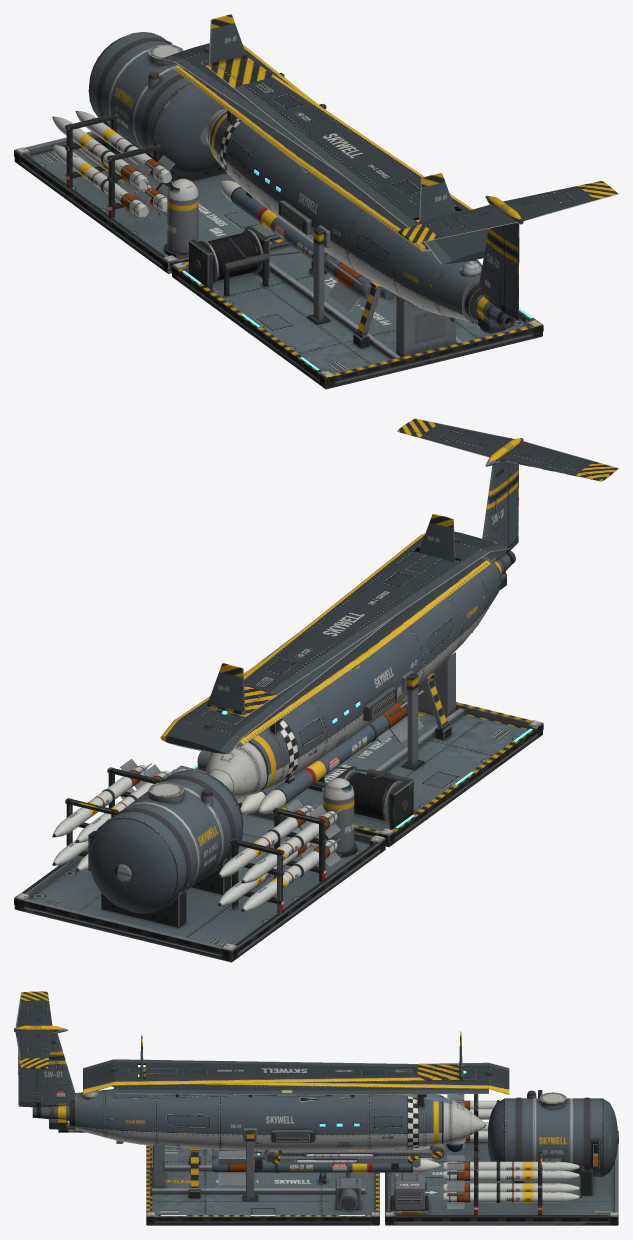
Rendered from SkywellKit.fbx.
3 renders of one model, top to bottom at view 1: azimuth 30°, elevation 25°; view 2: azimuth 150°, elevation 25°; view 3: azimuth 270°, elevation 25°, orthographic. The views are drawn at different scales.
Parts seen in each view (by area): view 1: Skin, Deck, Kite, WingOuterL, Tail, Wing, WingOuterR, Winch, WingletL, WingletR, Dark, LatchL (+1 smaller); view 2: Skin, Kite, Deck, WingOuterL, Tail, WingOuterR, Wing, Winch, WingletL, WingletR, Dark; view 3: Skin, Kite, Deck, WingOuterL, Tail, Wing, Round, WingOuterR, Loader, LoaderFore, Dark, LatchR.
Boxes of the visible parts, x1=… form: Skin: x1=14, y1=32, x2=326, y2=274; Deck: x1=171, y1=225, x2=543, y2=389; Kite: x1=205, y1=108, x2=482, y2=322; WingOuterL: x1=205, y1=57, x2=488, y2=264; Tail: x1=397, y1=181, x2=618, y2=333; Wing: x1=174, y1=65, x2=457, y2=251; WingOuterR: x1=161, y1=43, x2=419, y2=222; Winch: x1=198, y1=229, x2=263, y2=283; WingletL: x1=209, y1=14, x2=246, y2=66; WingletR: x1=419, y1=173, x2=455, y2=221; Dark: x1=96, y1=37, x2=182, y2=154; LatchL: x1=354, y1=281, x2=384, y2=340; Skin: x1=14, y1=758, x2=386, y2=962; Kite: x1=205, y1=556, x2=501, y2=813; Deck: x1=195, y1=652, x2=543, y2=847; WingOuterL: x1=205, y1=531, x2=510, y2=716; Tail: x1=397, y1=418, x2=618, y2=590; WingOuterR: x1=160, y1=617, x2=393, y2=754; Wing: x1=236, y1=552, x2=490, y2=746; Winch: x1=344, y1=769, x2=403, y2=823; WingletL: x1=207, y1=663, x2=245, y2=714; WingletR: x1=418, y1=514, x2=455, y2=562; Dark: x1=106, y1=775, x2=235, y2=892; Skin: x1=385, y1=1090, x2=618, y2=1225; Kite: x1=69, y1=1089, x2=486, y2=1160; Deck: x1=146, y1=1128, x2=379, y2=1225; WingOuterL: x1=83, y1=1059, x2=463, y2=1094; Tail: x1=14, y1=991, x2=75, y2=1129; Wing: x1=111, y1=1067, x2=488, y2=1097; Round: x1=212, y1=1151, x2=441, y2=1185; WingOuterR: x1=139, y1=1062, x2=509, y2=1094; Loader: x1=276, y1=1143, x2=445, y2=1160; LoaderFore: x1=264, y1=1149, x2=418, y2=1163; Dark: x1=425, y1=1090, x2=589, y2=1190; LatchR: x1=188, y1=1147, x2=200, y2=1190.
Size of what is drawn, in the model's own units: 224 by 206 by 709.
Materials: 4 (1 with a texture image).
